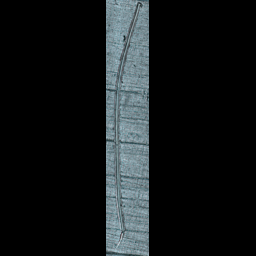d: (112, 1, 144, 251)
